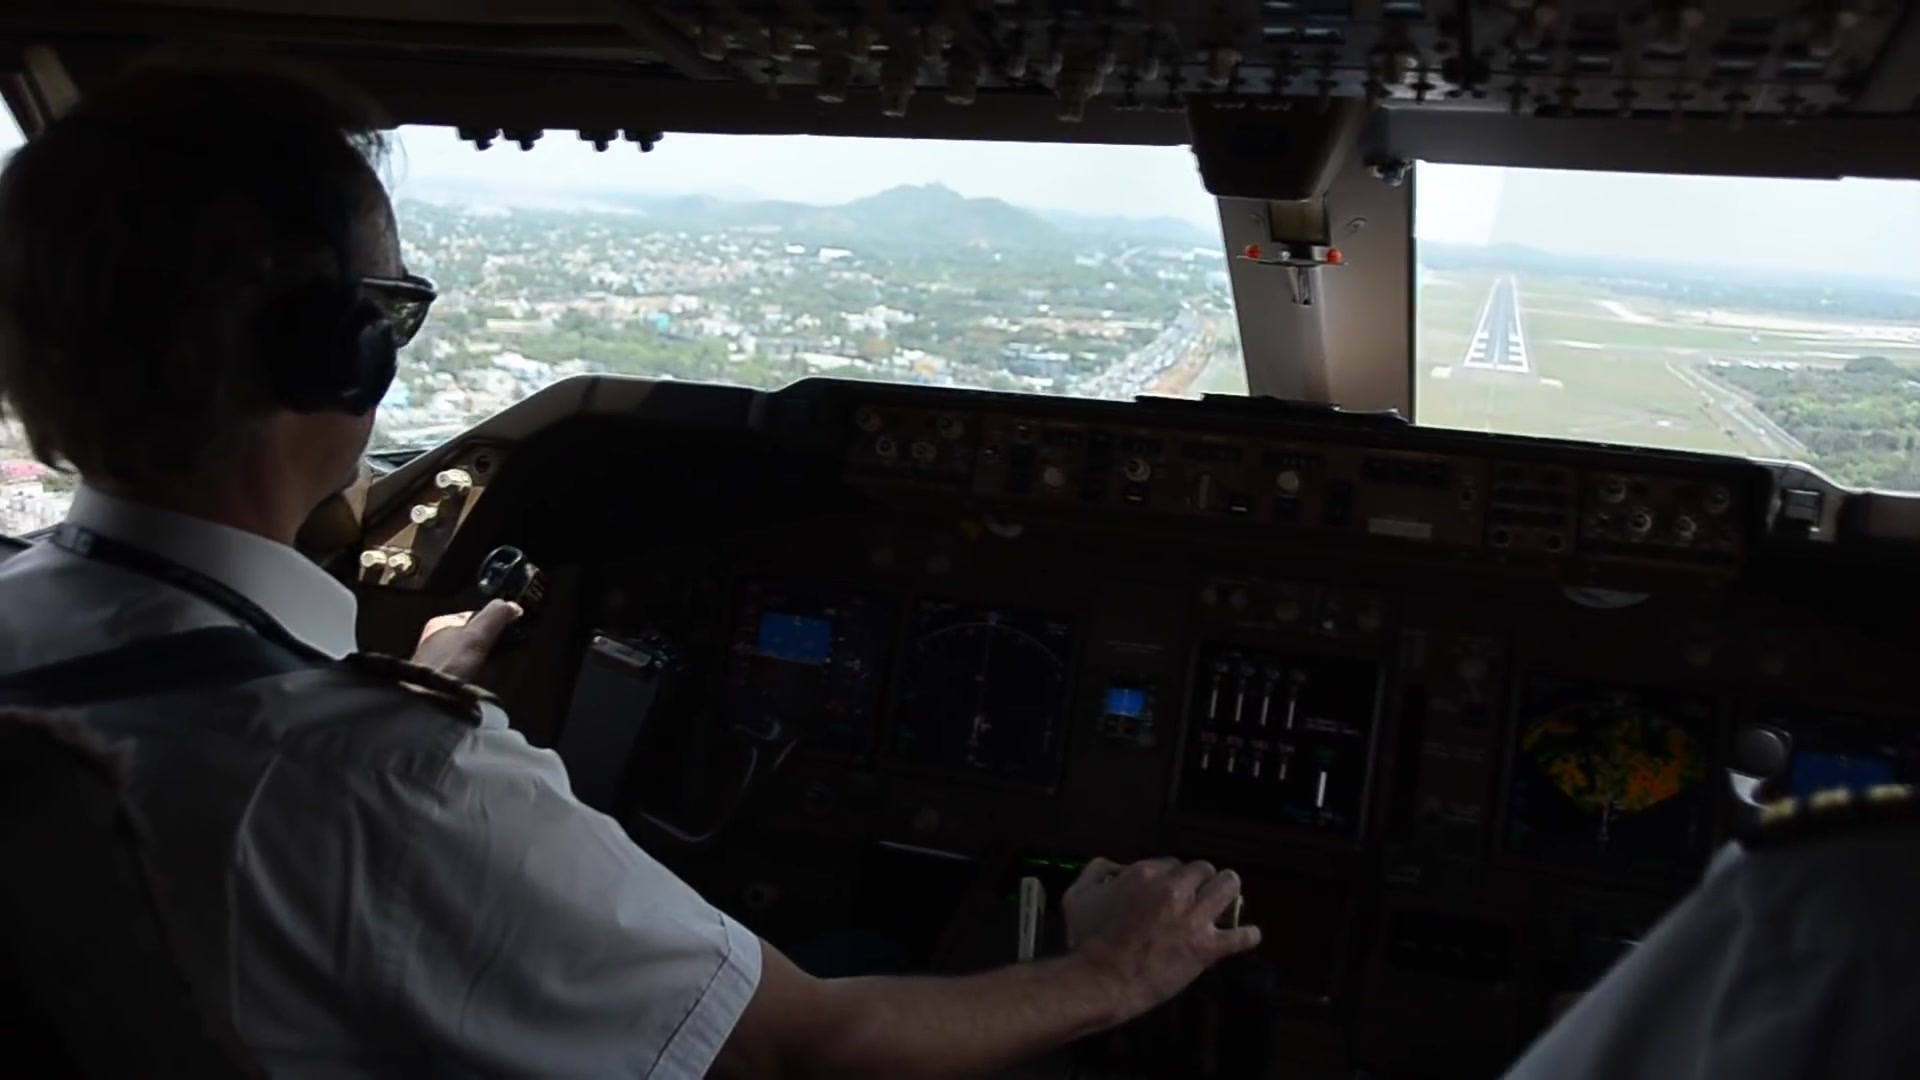runway: (1455, 272, 1539, 380)
